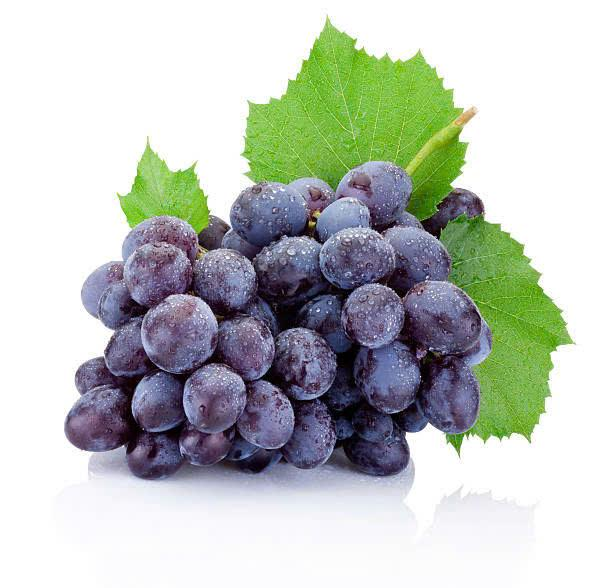grape: (70, 170, 521, 484), (246, 181, 474, 404), (139, 301, 335, 456)
